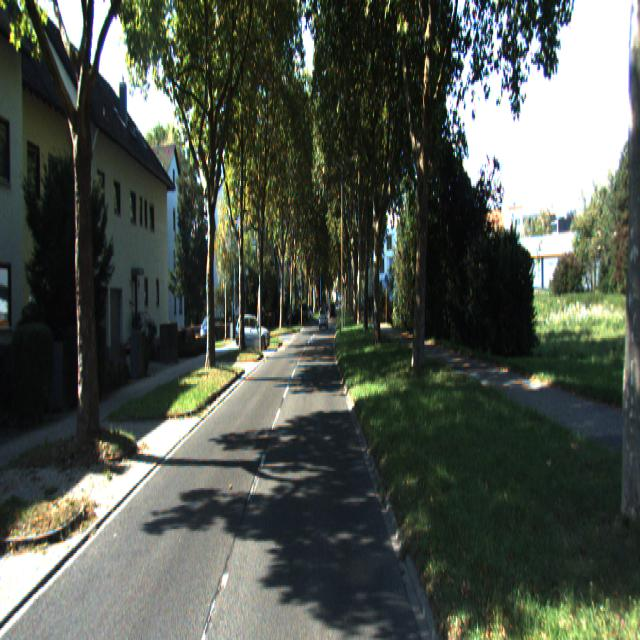Car: (234, 315, 272, 351)
